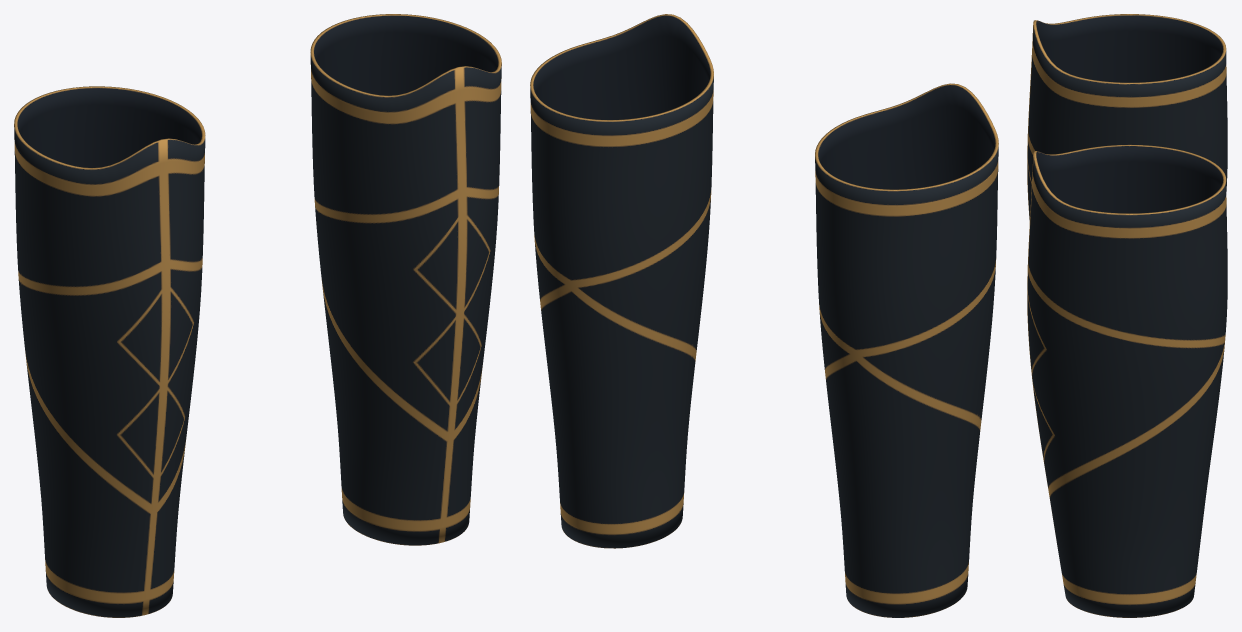
File: SM_ObsidianSovereign_Shins_preview_2K.glb
The picture shows the model from 3 angles, left to right: view 1: azimuth 30°, elevation 25°; view 2: azimuth 150°, elevation 25°; view 3: azimuth 270°, elevation 25°; orthographic projection. The views are drawn at different scales.
Visible parts, largest first — view 1: SM_ObsidianSovereign_Shins_L, SM_ObsidianSovereign_Shins_R; view 2: SM_ObsidianSovereign_Shins_L, SM_ObsidianSovereign_Shins_R; view 3: SM_ObsidianSovereign_Shins_L, SM_ObsidianSovereign_Shins_R.
Boxes of the visible parts, bbox=[...] form: SM_ObsidianSovereign_Shins_L: bbox=[310, 14, 501, 545]; SM_ObsidianSovereign_Shins_R: bbox=[14, 86, 205, 617]; SM_ObsidianSovereign_Shins_L: bbox=[530, 14, 713, 548]; SM_ObsidianSovereign_Shins_R: bbox=[815, 83, 998, 617]; SM_ObsidianSovereign_Shins_L: bbox=[1027, 144, 1227, 617]; SM_ObsidianSovereign_Shins_R: bbox=[1027, 14, 1227, 222].
Size of the model in its own units: 0.384 by 0.393 by 0.162.
1 material, 1 textured.
